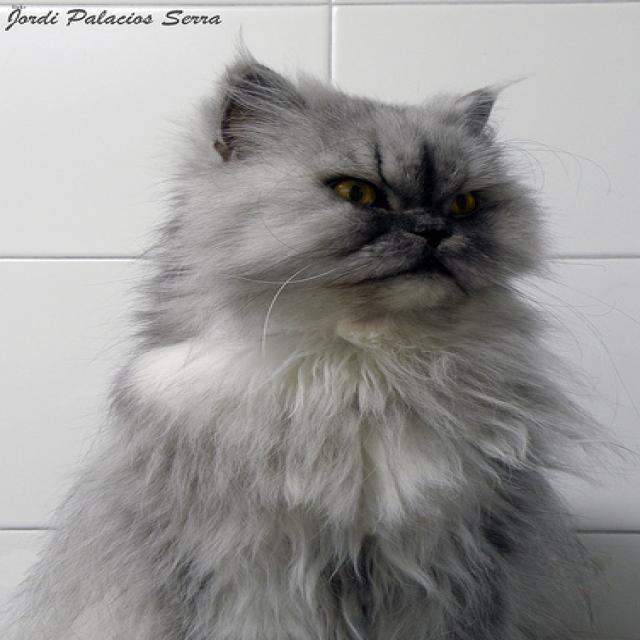Persian: (206, 59, 531, 307)
